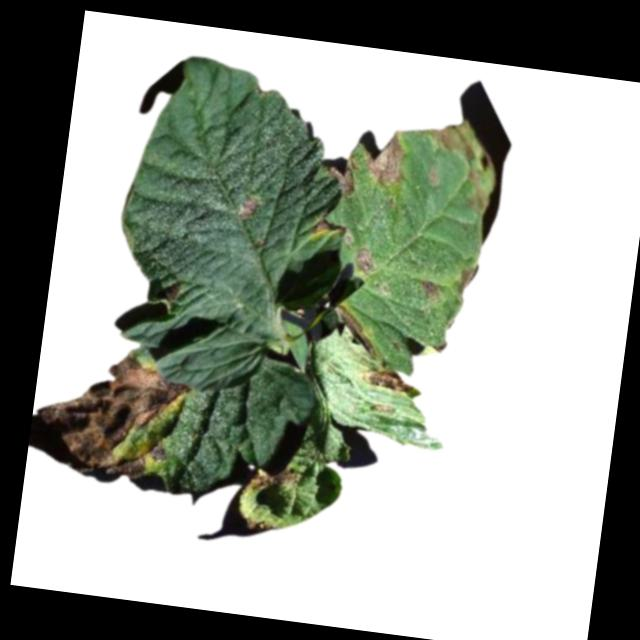Early_blight: (29, 343, 197, 484), (365, 128, 410, 190), (332, 302, 380, 355), (245, 464, 301, 499), (323, 151, 360, 201), (360, 366, 416, 398), (455, 262, 479, 298), (234, 194, 260, 224), (351, 248, 375, 274), (315, 219, 344, 239), (419, 278, 440, 302), (245, 517, 276, 533), (162, 281, 181, 305)
